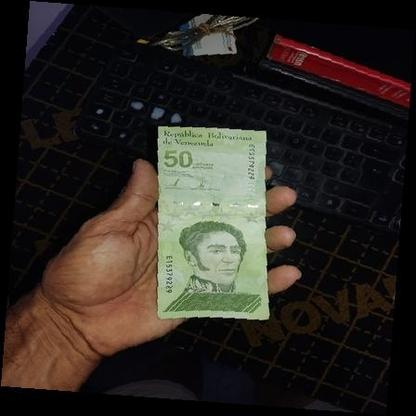fifty-front-vef: (156, 126, 268, 320)
